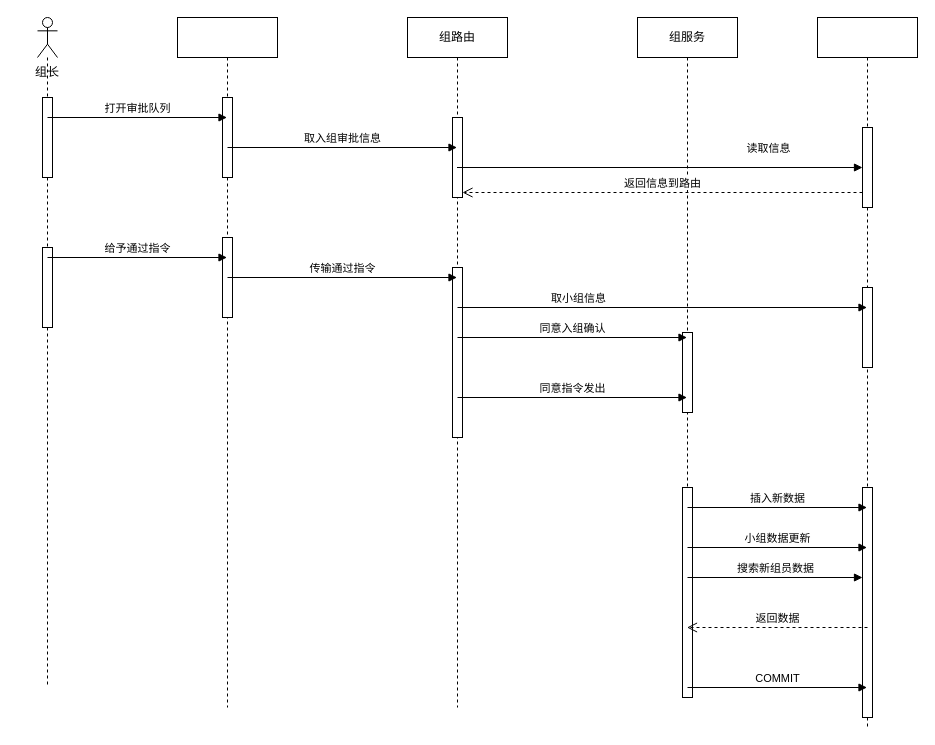
This 935x745 diagram has some shape labels left out. Here are the shapes that lost their labels. From the top down, the box of each, then its label:
(176, 16, 278, 708): 审批弹窗
(816, 16, 918, 728): 数据库
